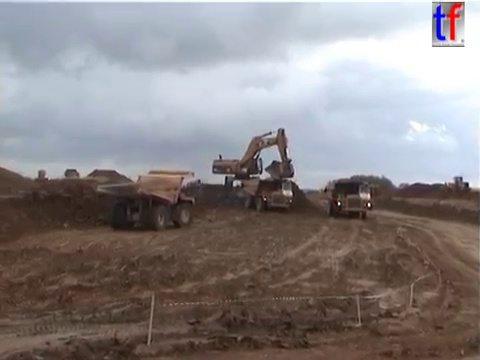excavator: (210, 126, 297, 190)
truck: (94, 168, 201, 231), (240, 175, 295, 213), (324, 179, 373, 220), (346, 179, 381, 203), (62, 167, 80, 182)
wheel loader: (438, 174, 470, 192)
